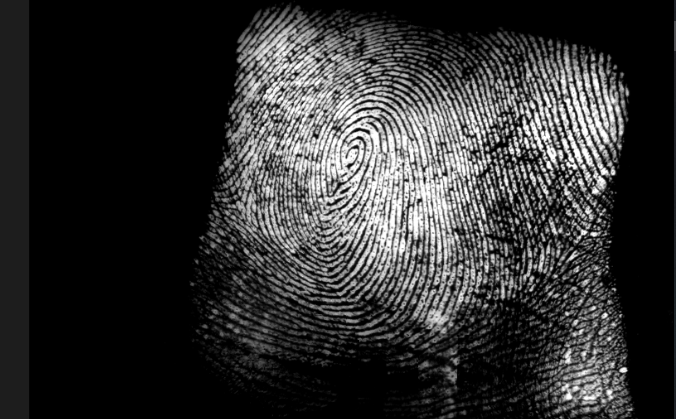nucelo: (328, 124, 372, 178)
verticilo: (220, 181, 257, 221), (566, 212, 595, 252)
